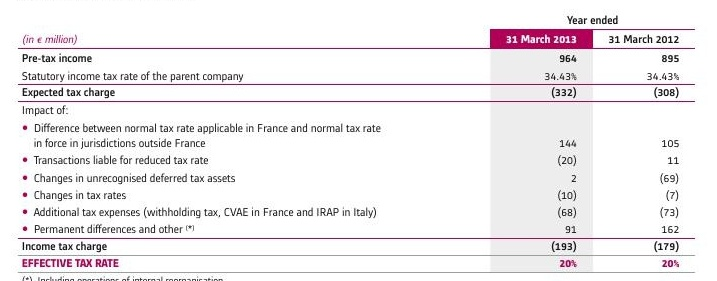table: (0, 0, 717, 281)
